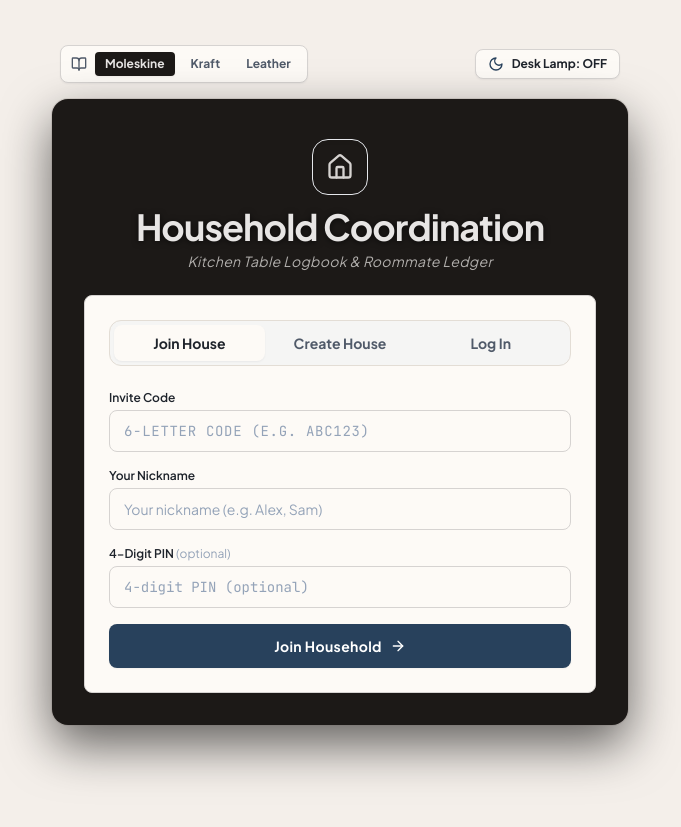
Test case: Onboarding Component › displays error message when join fails
This screenshot has width=681, height=827.
In the field with placeholder "6-letter code (e.g. ABC123)": (340, 431) [109,410,571,452], type "BAD123"
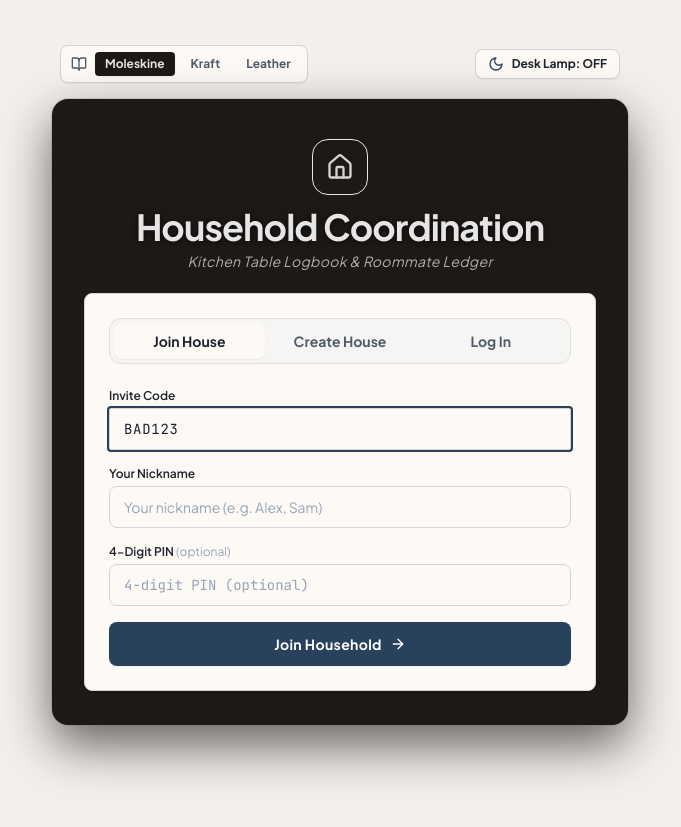
In the field with placeholder "Your nickname (e.g. Alex, Sam)": (340, 507) [109,486,571,528], type "Jordan"
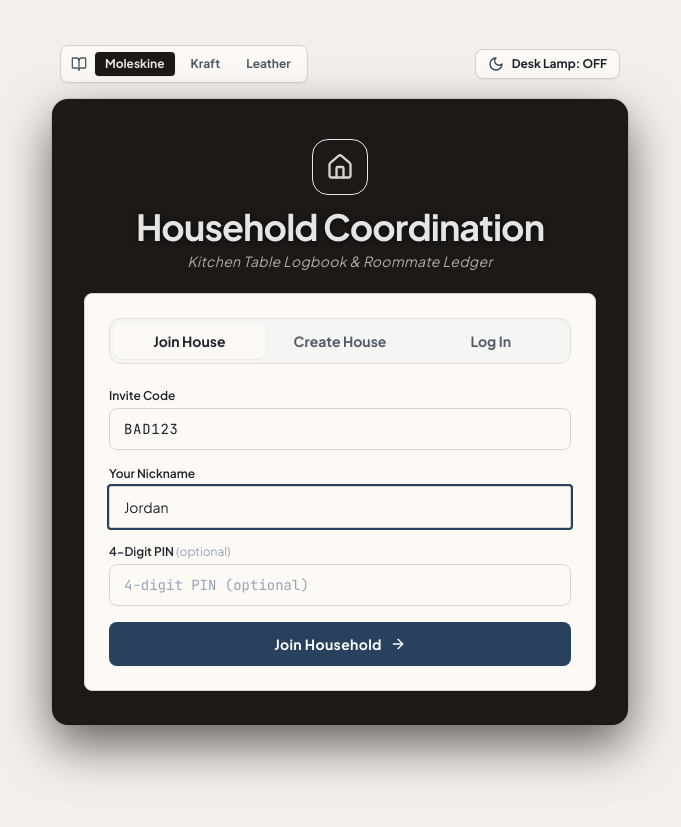
Click the button "Join Household": (340, 644) [109,622,571,666]
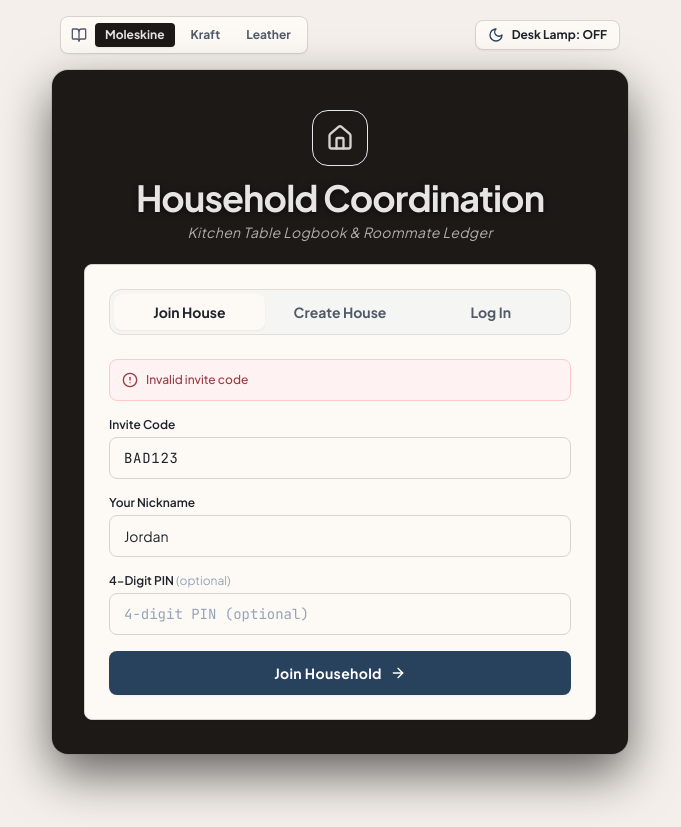
Expected: the text "Invalid invite code" is shown, [146,372,248,388]
